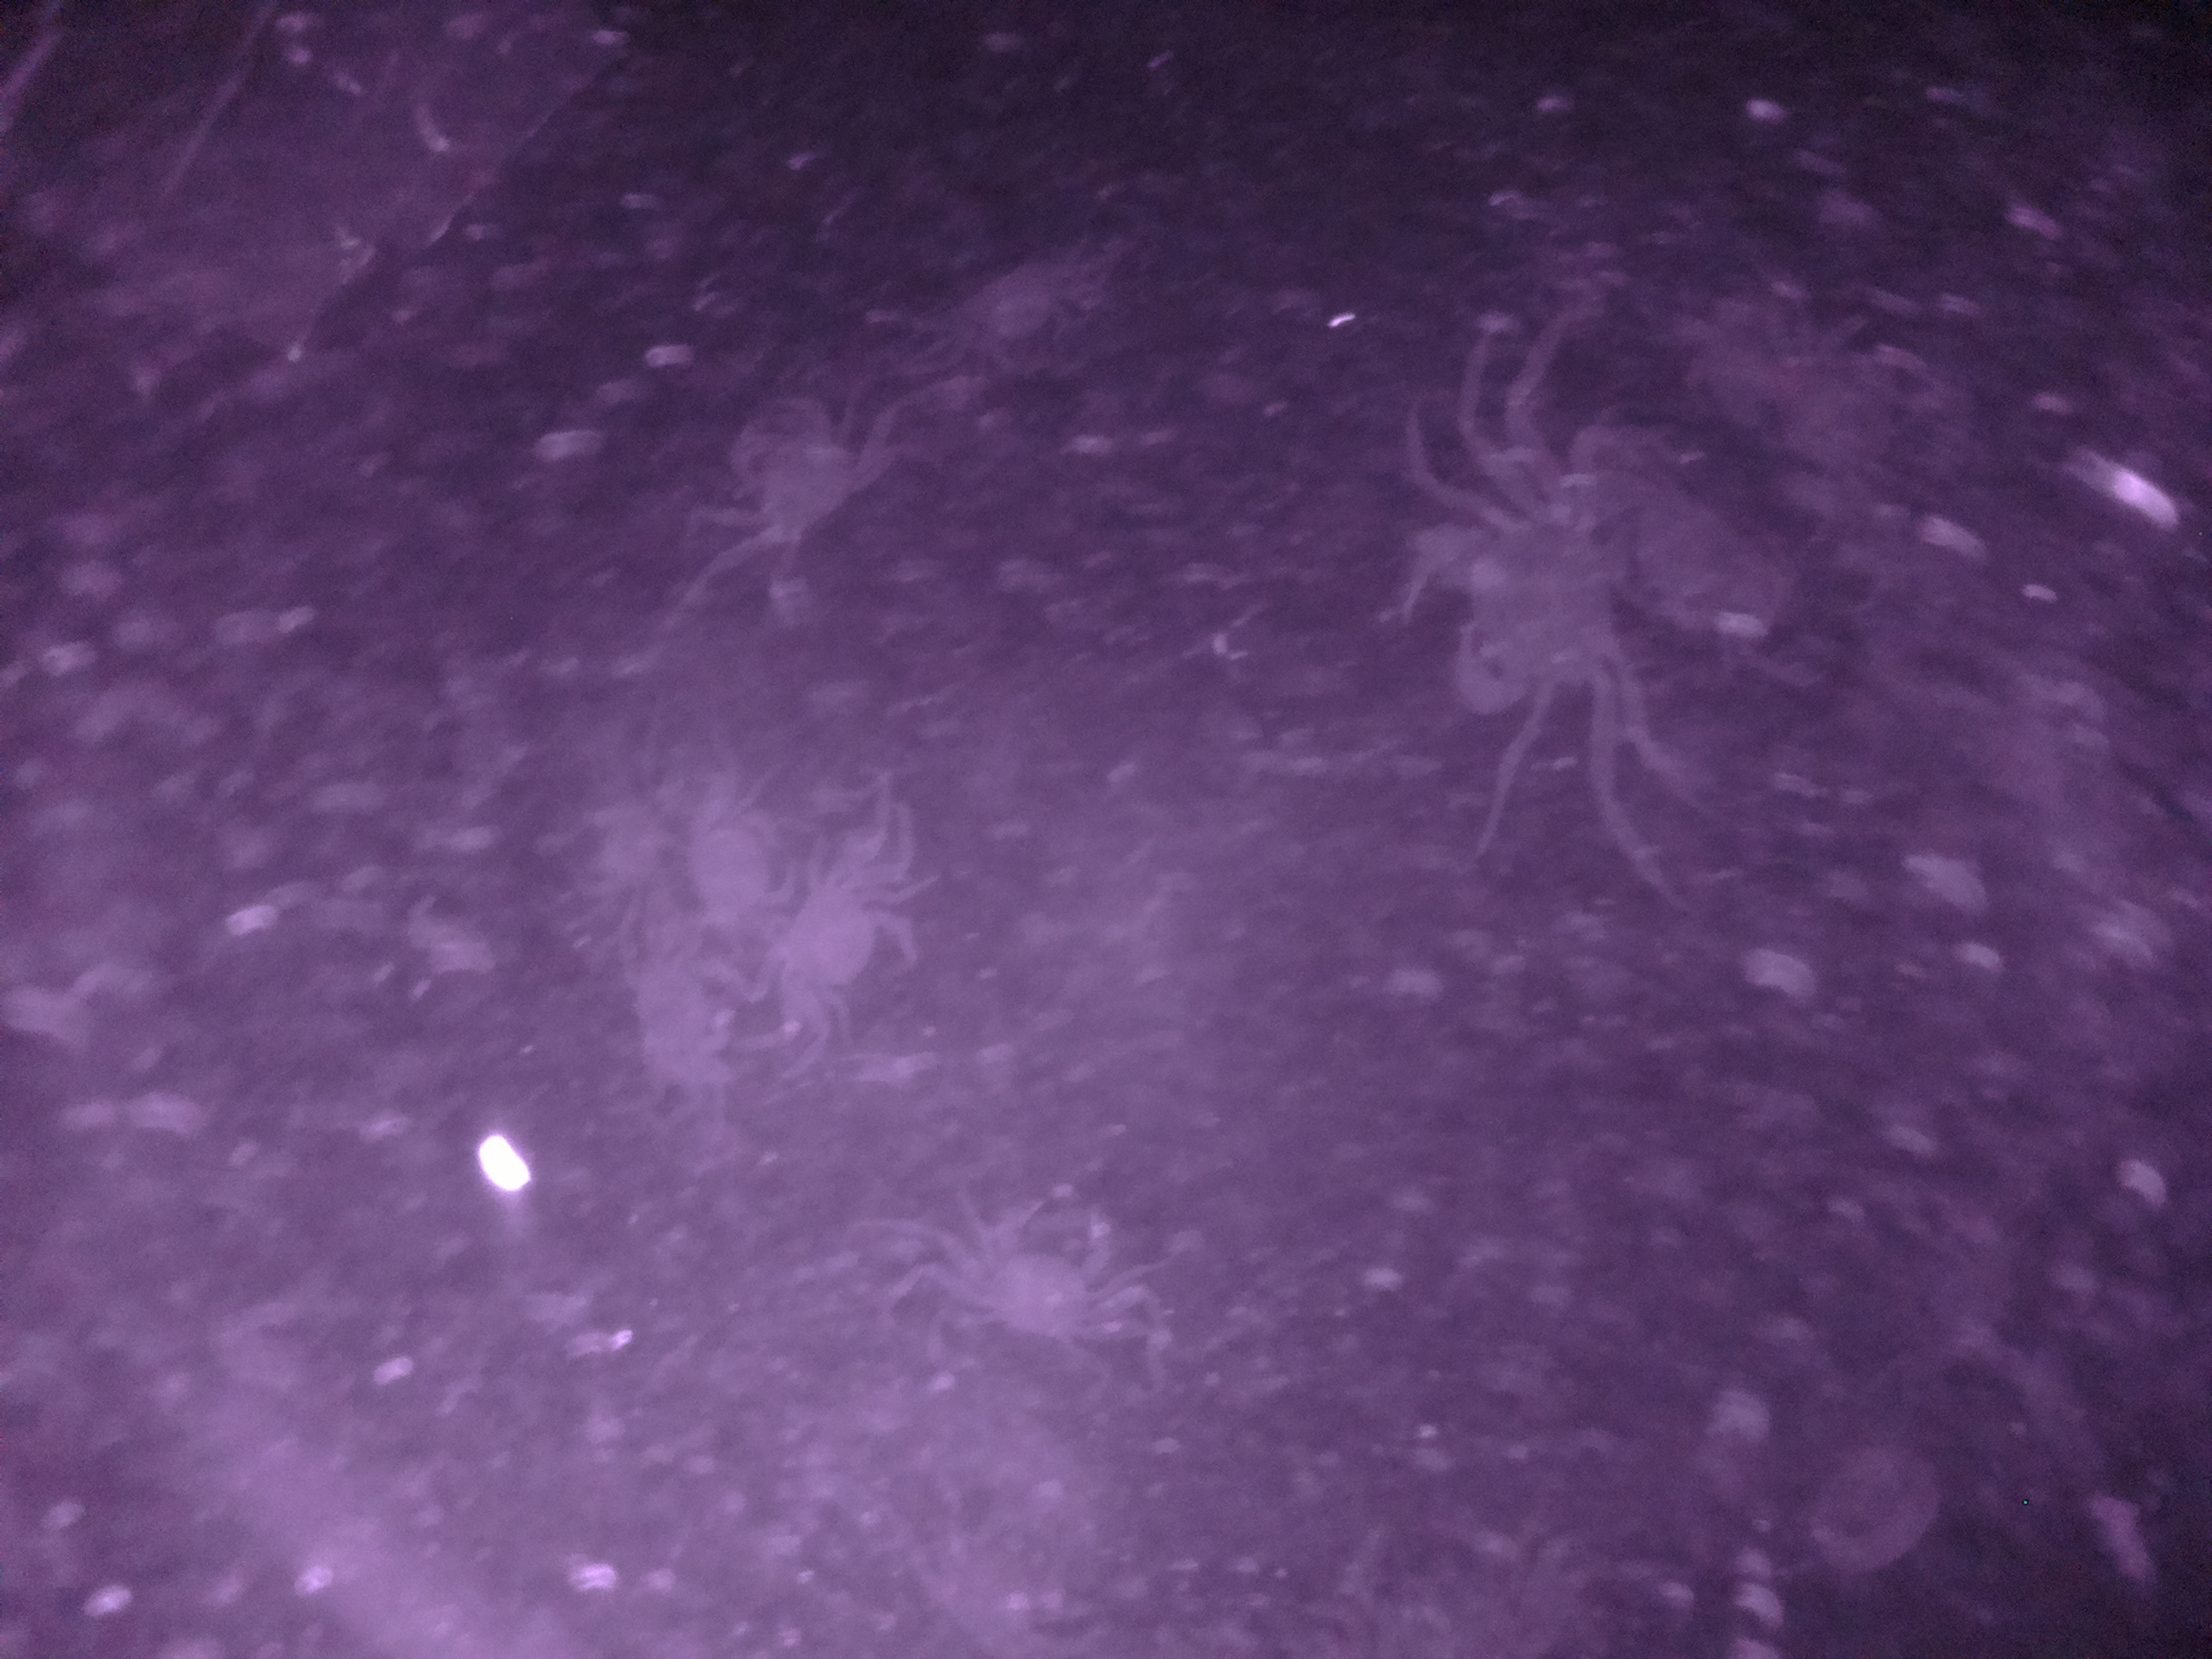Crab: (1372, 462, 1681, 734), (958, 1168, 1150, 1366), (777, 835, 932, 1047)
